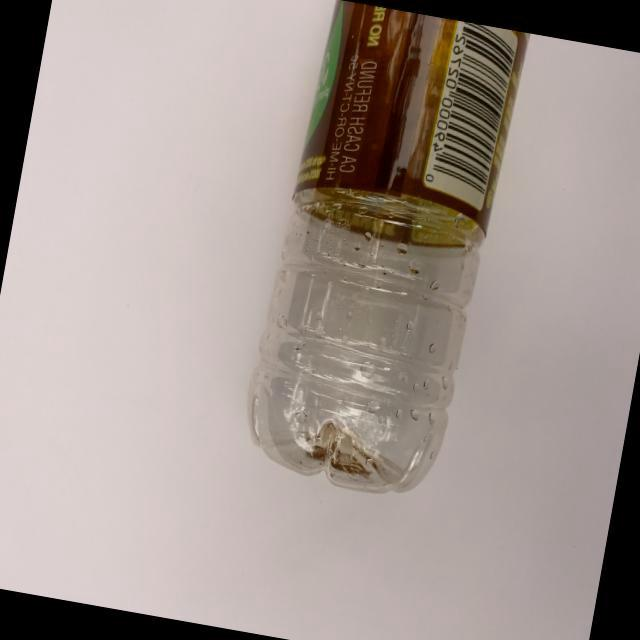plastic: (173, 0, 548, 577)
